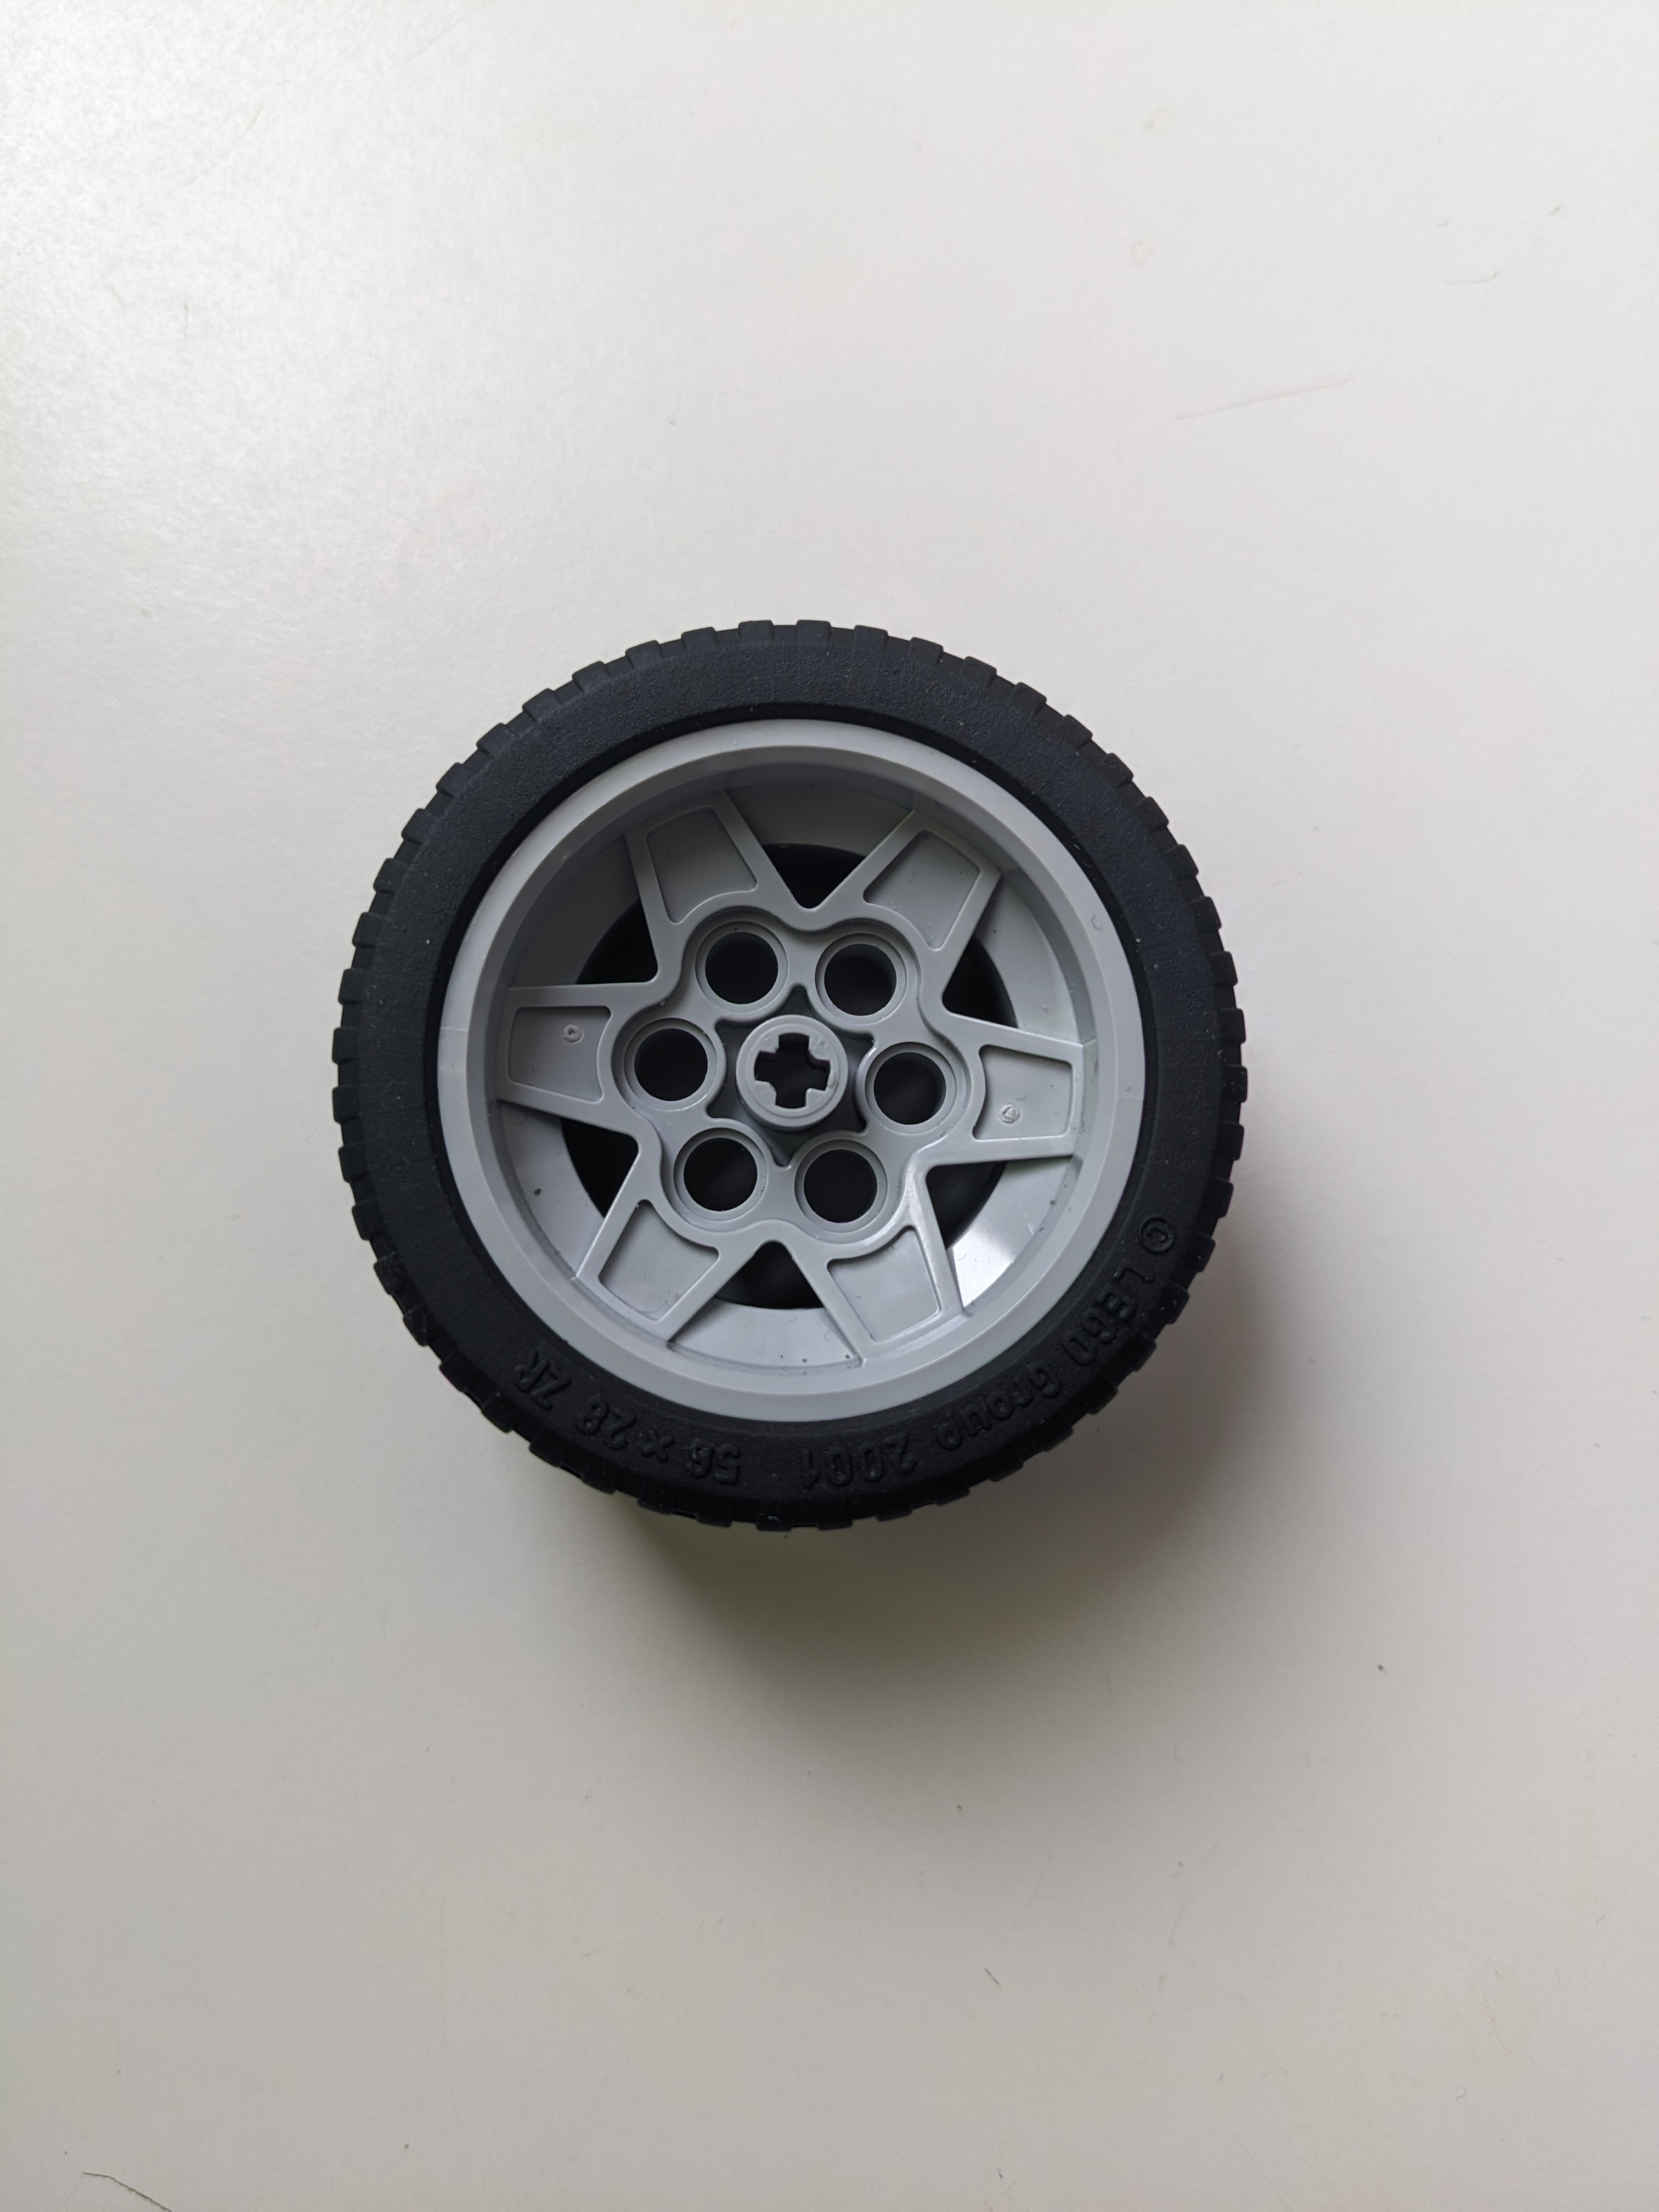Rad: (317, 599, 1269, 1569)
